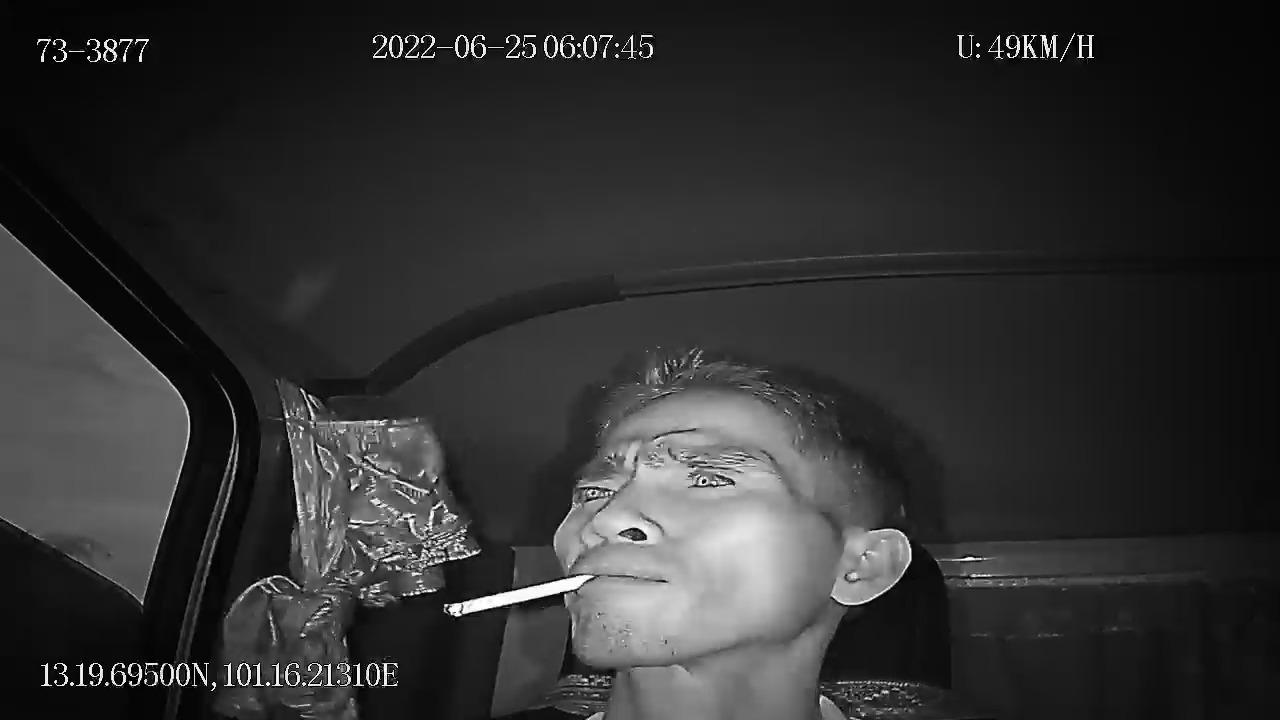Smoking: (428, 566, 640, 629)
